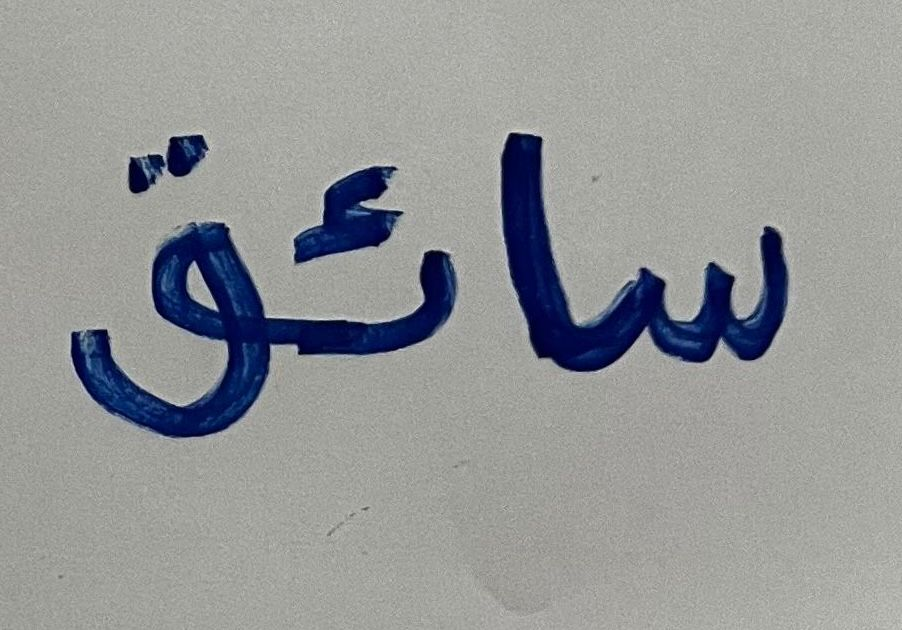alef: (475, 93, 591, 419)
hamza: (279, 119, 466, 426)
qaf: (49, 98, 276, 482)
seen: (595, 204, 815, 425)
